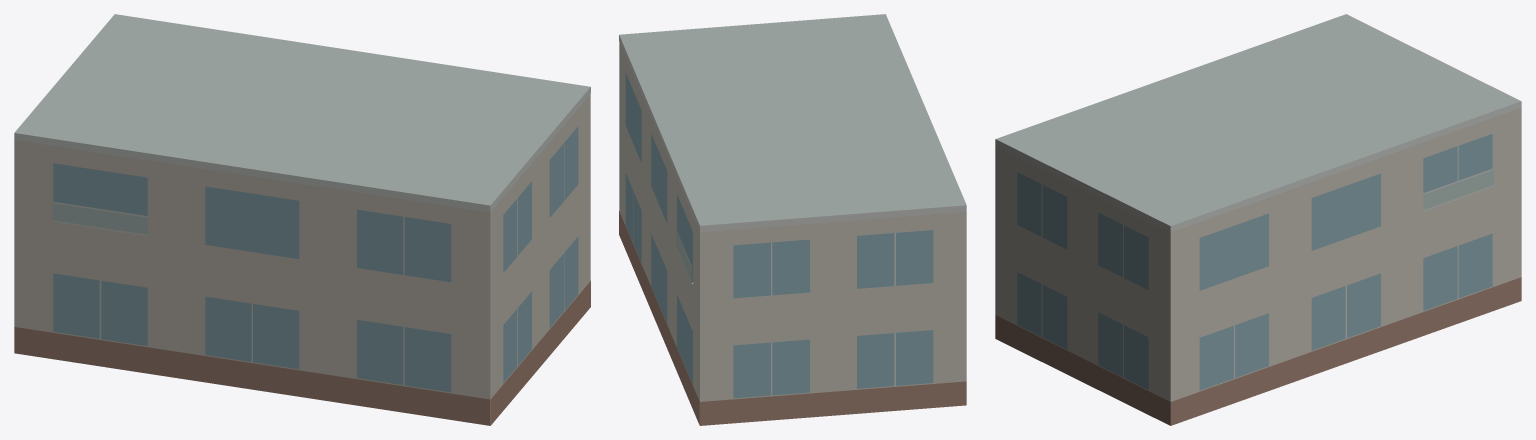
File: survey-upis-32627334.glb
3 views of the same model, side by side, from view 1: azimuth 30°, elevation 25°; view 2: azimuth 150°, elevation 25°; view 3: azimuth 270°, elevation 25° (orthographic). The views are drawn at different scales.
Visible parts, largest first — view 1: survey-upis-32627334.tmp; view 2: survey-upis-32627334.tmp; view 3: survey-upis-32627334.tmp.
Part boxes in pixels (x1,y1,x2,y2): survey-upis-32627334.tmp: (14, 14, 590, 425); survey-upis-32627334.tmp: (619, 14, 966, 425); survey-upis-32627334.tmp: (995, 14, 1521, 425).
Bounding box in the file's own units: 17.55 × 7.7 × 18.39.
